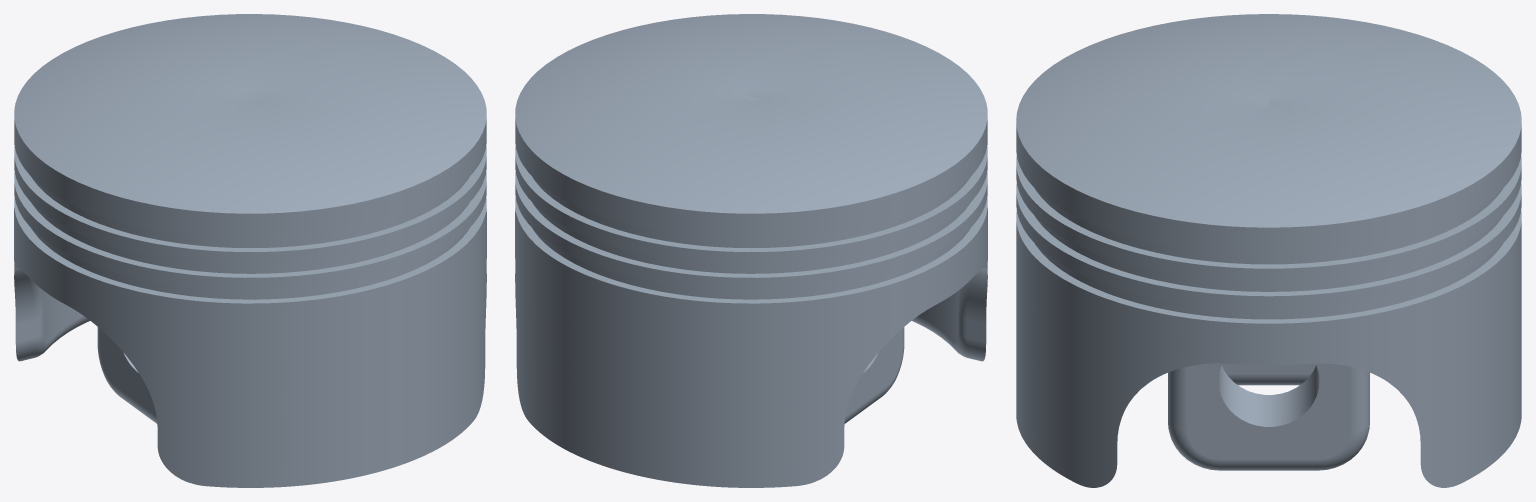
Rendered from piston.obj.
3 views of the same model, side by side, from view 1: azimuth 30°, elevation 25°; view 2: azimuth 150°, elevation 25°; view 3: azimuth 270°, elevation 25° (orthographic). The views are drawn at different scales.
Parts seen in each view (by area): view 1: 1; view 2: 1; view 3: 1.
Boxes of the visible parts, <box> form: 1: <box>14,14,486,487</box>; 1: <box>515,14,987,487</box>; 1: <box>1016,14,1521,487</box>.
Bounding box in the file's own units: 127 × 87.83 × 127.
